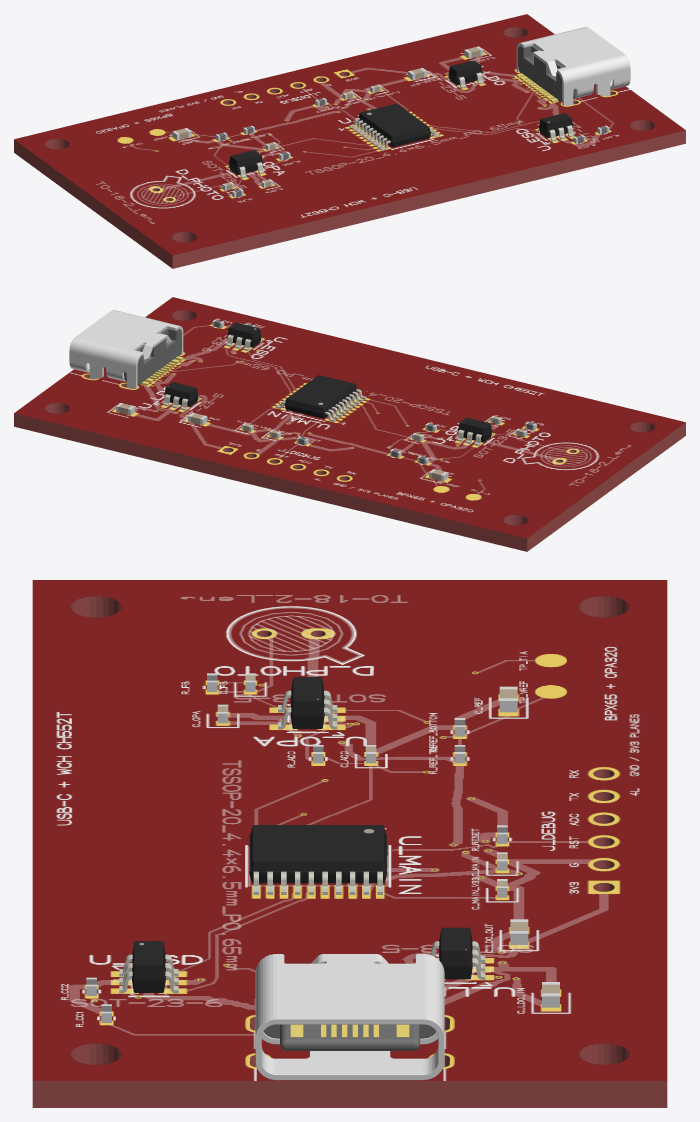
3 views of the same model, one above another, from view 1: azimuth 30°, elevation 25°; view 2: azimuth 150°, elevation 25°; view 3: azimuth 270°, elevation 25° (orthographic). The views are drawn at different scales.
Visible parts, largest first — view 1: Box0, J1, U_MAIN, U_ESD, U_LDO, U_OPA; view 2: Box0, J1, U_MAIN, U_ESD, U_LDO, U_OPA; view 3: Box0, J1, U_MAIN, U_ESD, U_OPA, U_LDO.
Part boxes in pixels (bbox=[...]): Box0: bbox=[14, 14, 685, 268]; J1: bbox=[516, 27, 630, 105]; U_MAIN: bbox=[349, 103, 439, 150]; U_ESD: bbox=[537, 113, 574, 141]; U_LDO: bbox=[447, 60, 483, 88]; U_OPA: bbox=[227, 150, 264, 178]; Box0: bbox=[14, 297, 685, 551]; J1: bbox=[69, 310, 183, 388]; U_MAIN: bbox=[275, 375, 366, 421]; U_ESD: bbox=[226, 322, 262, 350]; U_LDO: bbox=[163, 382, 199, 410]; U_OPA: bbox=[456, 417, 493, 445]; Box0: bbox=[32, 580, 667, 1107]; J1: bbox=[255, 954, 444, 1080]; U_MAIN: bbox=[249, 825, 386, 894]; U_ESD: bbox=[119, 941, 178, 993]; U_OPA: bbox=[278, 677, 337, 729]; U_LDO: bbox=[431, 927, 485, 979].
Bounding box in the file's own units: 56.04 × 4.65 × 30.
Materials: 13 (2 with a texture image).
